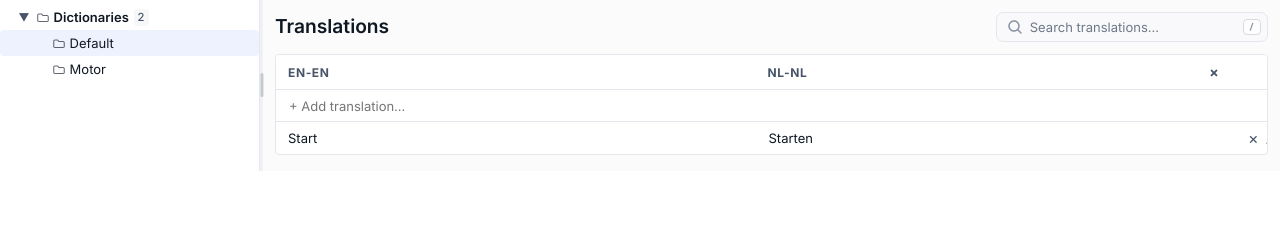
Test: TranslationsView › reports a backend add that silently failed to create the key
This screenshot has width=1280, height=225.
In the field with placeholder "+ Add translation…": (516, 106) [282,92,749,120], type "Reset"
Then press Enter
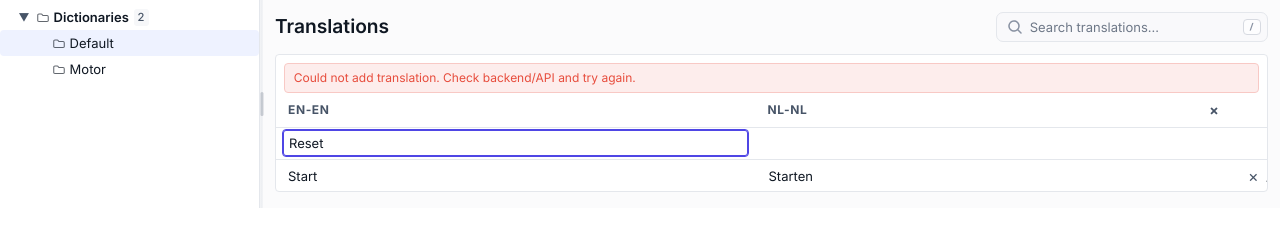
Result: the text "Could not add translation. Check backend/API and try again." is shown at [284,63,1259,93]
